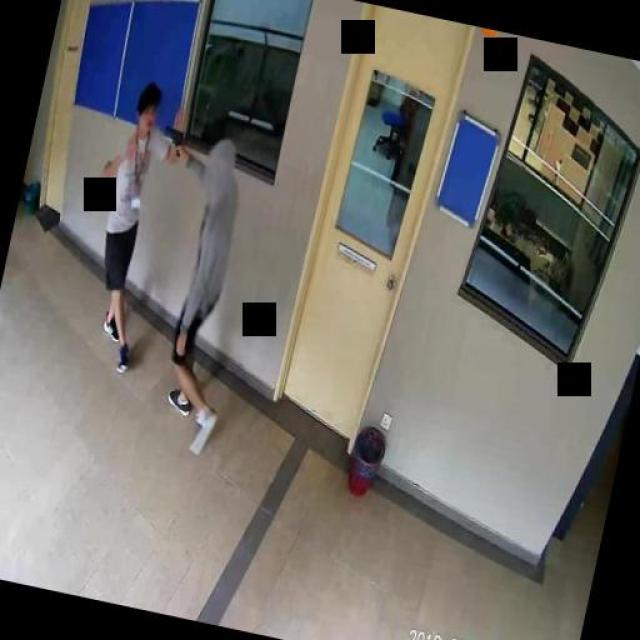gun: (159, 122, 186, 154)
